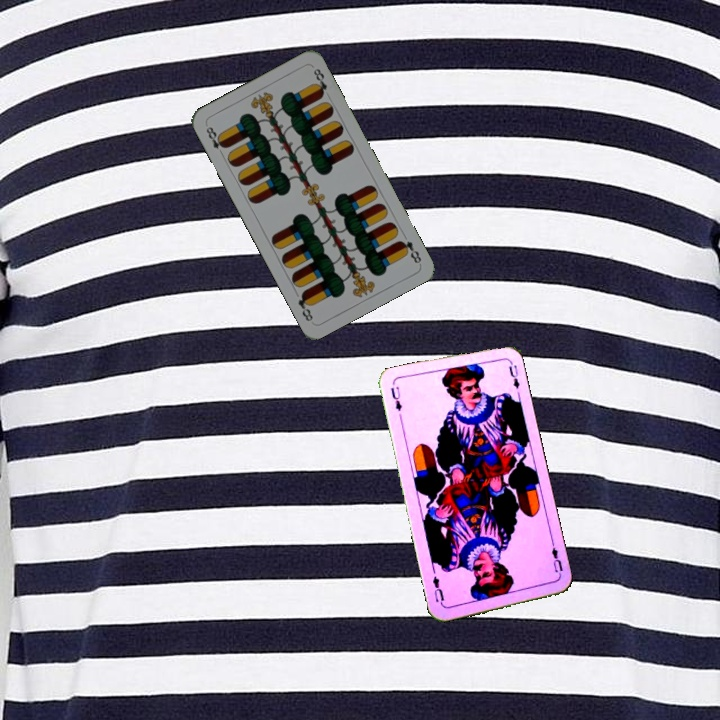E8: (202, 122, 229, 159), (395, 236, 424, 266)
EU: (547, 539, 565, 580), (387, 382, 404, 414)
